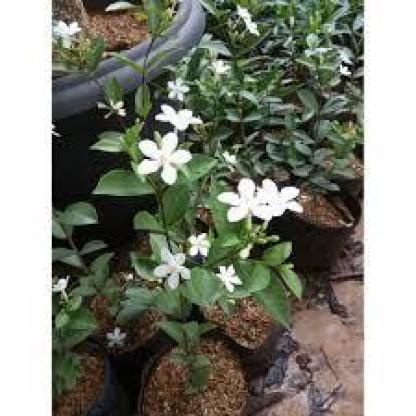Melati: (151, 225, 249, 312), (127, 131, 210, 194), (143, 90, 225, 132), (221, 181, 299, 216)
